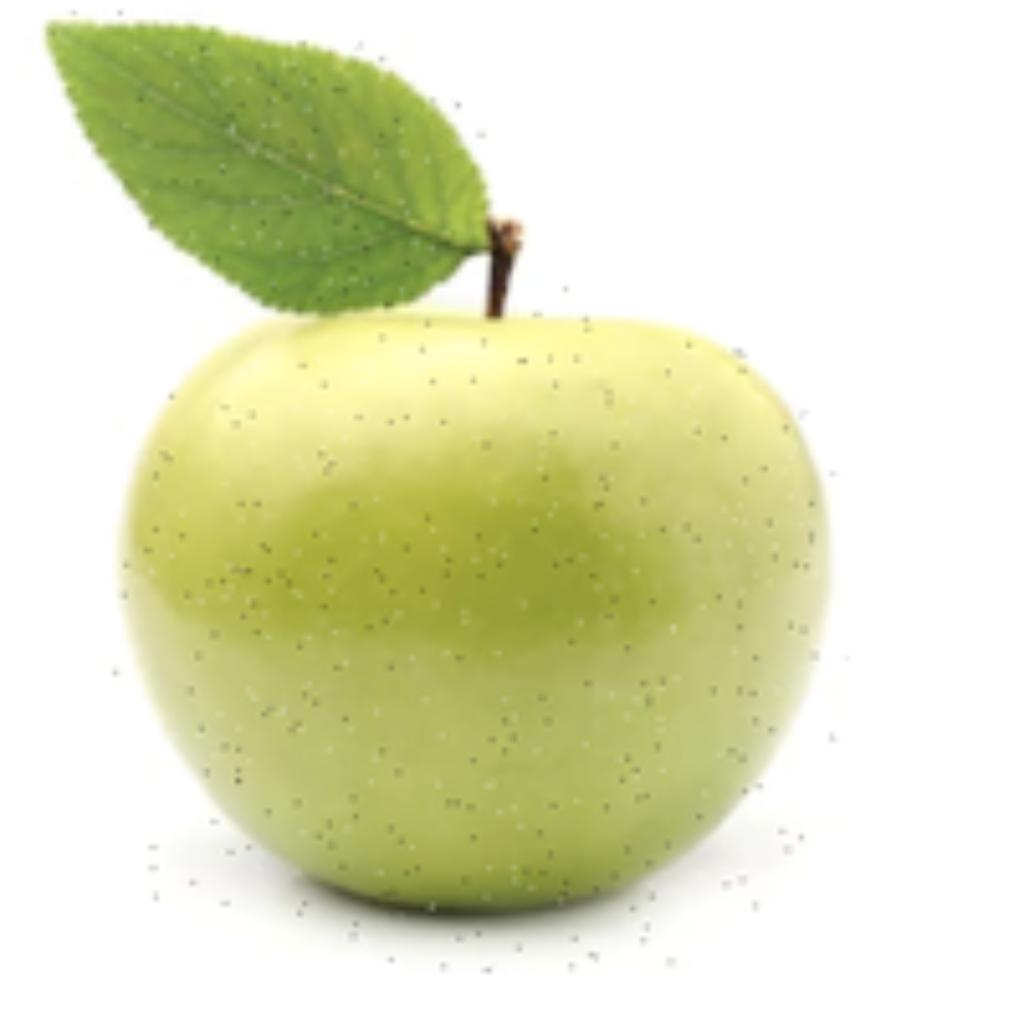apple: (36, 6, 840, 973)
